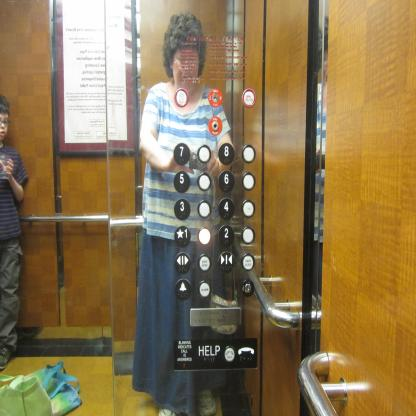2: (218, 225, 234, 246)
3: (174, 198, 190, 220)
4: (218, 197, 234, 220)
5: (174, 171, 190, 193)
6: (218, 171, 235, 192)
7: (174, 143, 190, 166)
8: (218, 143, 235, 165)
alarm: (174, 278, 192, 300)
call: (237, 344, 255, 363)
close: (218, 251, 234, 272)
empty: (197, 144, 211, 163), (242, 144, 256, 163), (197, 172, 211, 191), (197, 200, 211, 218), (197, 226, 211, 244), (242, 172, 255, 190), (242, 199, 254, 217), (242, 227, 254, 244)
keyhole: (208, 88, 222, 107), (208, 116, 222, 135), (242, 280, 254, 297)
open: (174, 252, 191, 274)
s1: (174, 225, 191, 248)
text_alarm bell: (197, 280, 211, 298)
text_close door: (241, 254, 255, 270)
text_help: (224, 346, 236, 362)
text_open door: (198, 254, 211, 271)
unknown: (174, 88, 188, 107), (242, 88, 256, 107)
